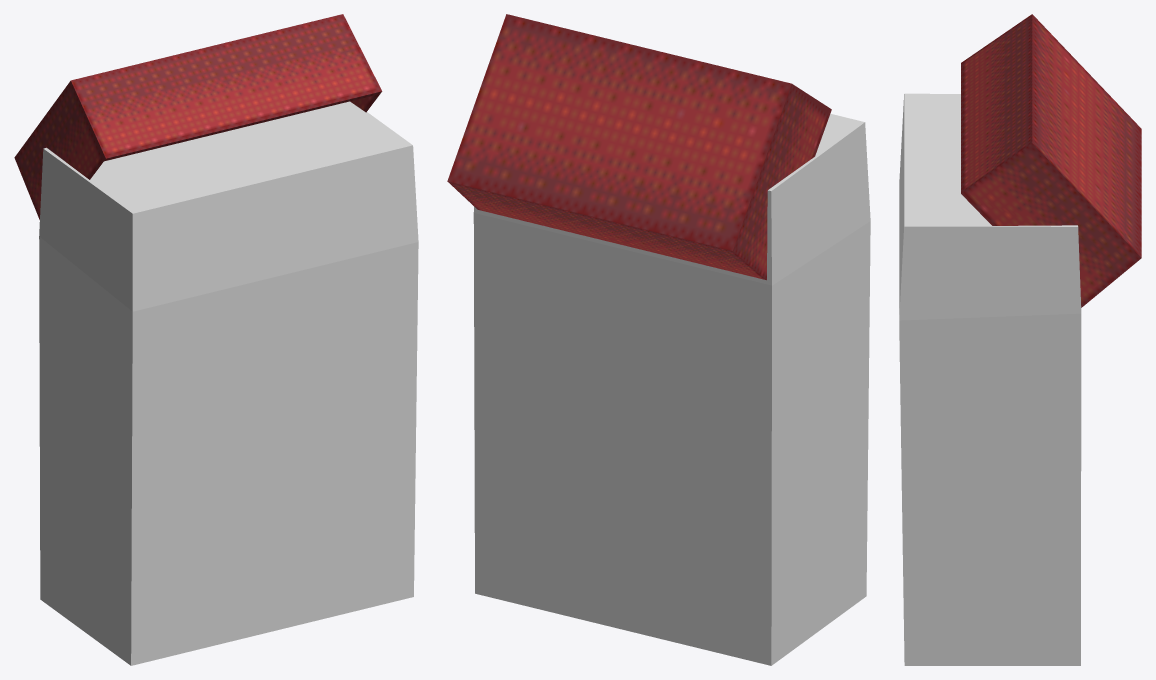
File: cigarette_pack_test.fbx
3 views of the same model, side by side, from view 1: azimuth 30°, elevation 25°; view 2: azimuth 150°, elevation 25°; view 3: azimuth 270°, elevation 25° (orthographic). The views are drawn at different scales.
Visible parts, largest first — view 1: plastic_wrap, cigarette_open; view 2: plastic_wrap, cigarette_open; view 3: plastic_wrap, cigarette_open.
Boxes of the visible parts, bbox=[...] form: plastic_wrap: bbox=[39, 101, 418, 665]; cigarette_open: bbox=[14, 14, 382, 219]; plastic_wrap: bbox=[473, 113, 870, 665]; cigarette_open: bbox=[447, 14, 831, 280]; plastic_wrap: bbox=[899, 93, 1081, 665]; cigarette_open: bbox=[961, 14, 1141, 307].
Bounding box in the file's own units: 2.28 × 4.09 × 1.73.
